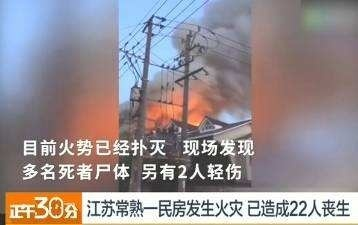fire: (145, 84, 209, 130)
